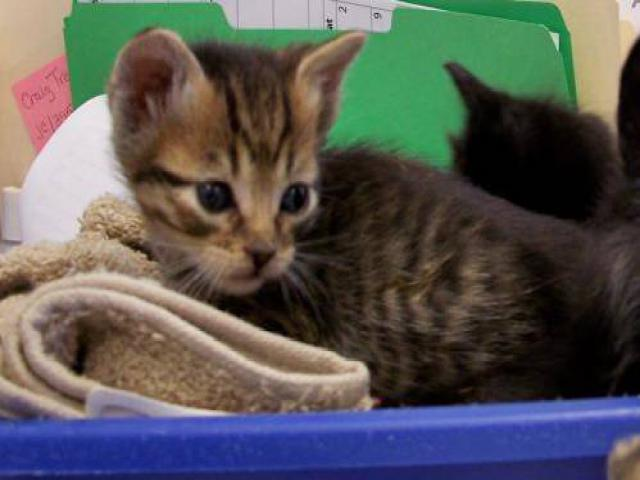cat: (87, 32, 624, 423)
